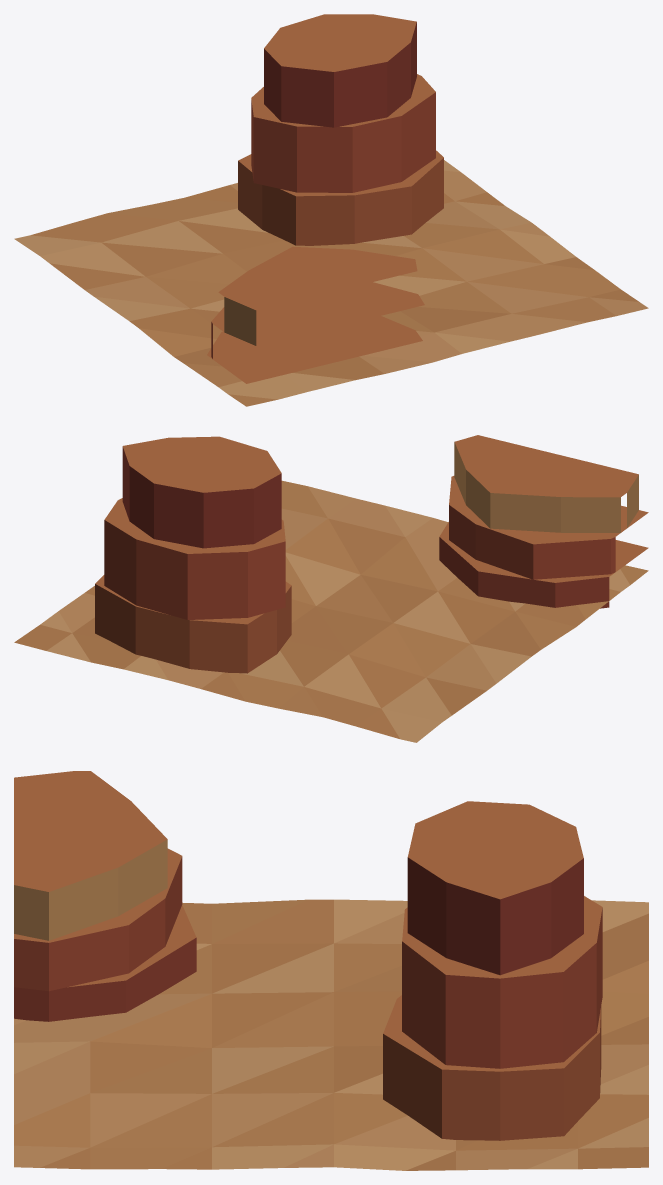
The picture shows the model from 3 angles, top to bottom: view 1: azimuth 30°, elevation 25°; view 2: azimuth 150°, elevation 25°; view 3: azimuth 270°, elevation 25°; orthographic projection. The views are drawn at different scales.
Parts seen in each view (by area): view 1: baked; view 2: baked; view 3: baked.
Boxes of the visible parts, x1,y1,x2,y2 form: baked: [14, 14, 648, 406]; baked: [14, 435, 648, 742]; baked: [14, 771, 648, 1170].
Size of the model in its own units: 62.5 by 26.39 by 62.5.
